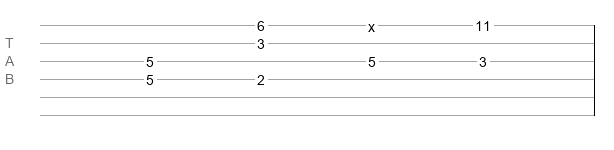11: (475, 18, 491, 28)
2: (257, 72, 265, 82)
3: (257, 36, 265, 46), (479, 54, 487, 64)
5: (146, 72, 154, 82), (146, 54, 154, 64), (368, 54, 376, 64)
6: (257, 18, 265, 28)
x: (368, 19, 375, 27)
